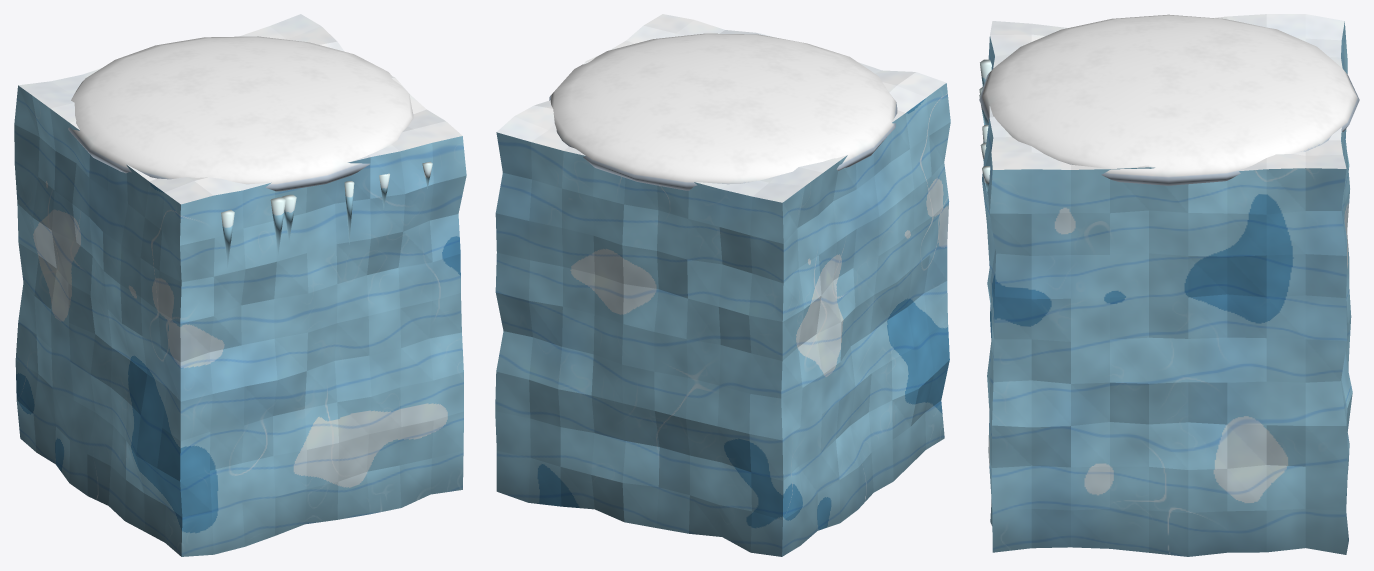
File: ice_ledge.glb
3 renders of one model, left to right at view 1: azimuth 30°, elevation 25°; view 2: azimuth 150°, elevation 25°; view 3: azimuth 270°, elevation 25°, orthographic. The views are drawn at different scales.
Visible parts, largest first — view 1: IceLedge; view 2: IceLedge; view 3: IceLedge.
Part boxes in pixels (<box>): IceLedge: <box>14,14,466,556</box>; IceLedge: <box>495,14,950,556</box>; IceLedge: <box>979,14,1359,556</box>.
Bounding box in the file's own units: 3.77 × 4.54 × 3.78.
Materials: 1 (1 with a texture image).
